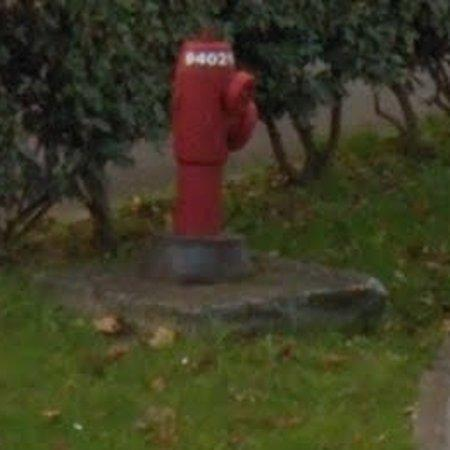a fire hydrant: (147, 40, 258, 282)
